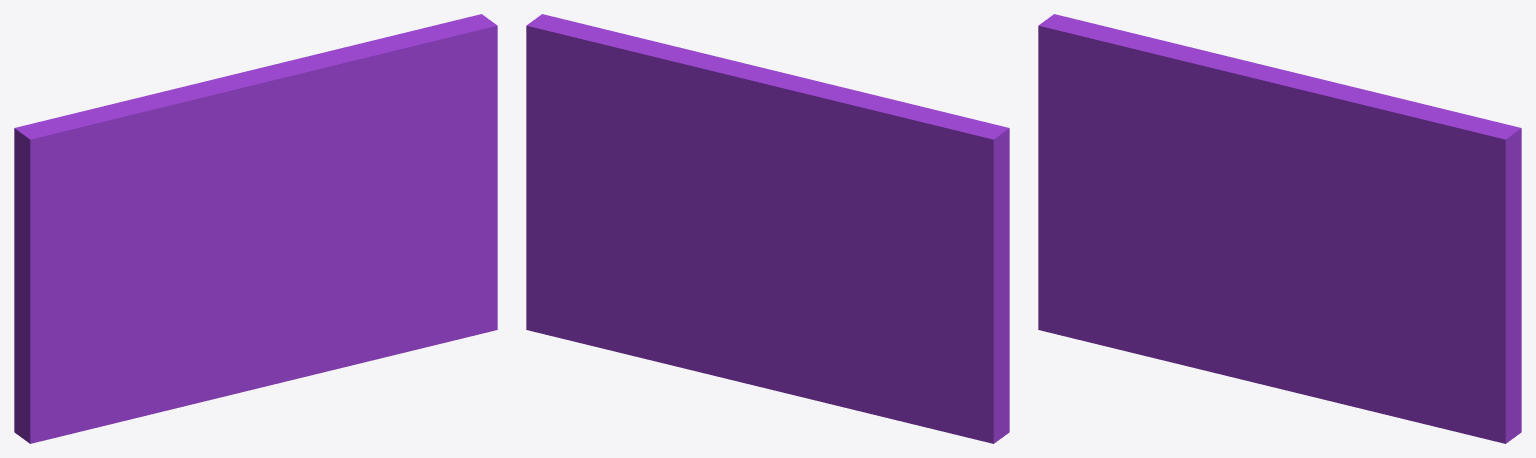
Rendered from Barrier_110_chunks.fbx.
3 renders of one model, left to right at view 1: azimuth 30°, elevation 25°; view 2: azimuth 150°, elevation 25°; view 3: azimuth 330°, elevation 25°, orthographic.
Parts seen in each view (by area): view 1: Barrier_110_0, Barrier_110_1, Barrier_110_2, Barrier_110_5, Barrier_110_4, Barrier_110_6, Barrier_110_3; view 2: Barrier_110_0, Barrier_110_1, Barrier_110_2, Barrier_110_5, Barrier_110_4, Barrier_110_6; view 3: Barrier_110_1, Barrier_110_0, Barrier_110_2, Barrier_110_5, Barrier_110_4, Barrier_110_6, Barrier_110_3.
Boxes of the visible parts, x1,y1,x2,y2 form: Barrier_110_0: (14, 94, 244, 443); Barrier_110_1: (284, 14, 497, 331); Barrier_110_2: (127, 53, 379, 242); Barrier_110_5: (261, 263, 489, 387); Barrier_110_4: (90, 281, 268, 429); Barrier_110_6: (221, 231, 349, 296); Barrier_110_3: (214, 272, 294, 344); Barrier_110_0: (759, 104, 1009, 443); Barrier_110_1: (526, 14, 761, 340); Barrier_110_2: (661, 43, 911, 203); Barrier_110_5: (570, 280, 755, 385); Barrier_110_4: (744, 283, 903, 421); Barrier_110_6: (694, 248, 787, 310); Barrier_110_1: (1292, 89, 1521, 443); Barrier_110_0: (1038, 14, 1252, 344); Barrier_110_2: (1135, 48, 1387, 241); Barrier_110_5: (1269, 305, 1497, 441); Barrier_110_4: (1098, 256, 1276, 386); Barrier_110_6: (1229, 234, 1357, 311); Barrier_110_3: (1222, 251, 1303, 346).
Size of the model in its own units: 462 by 288 by 27.2.
